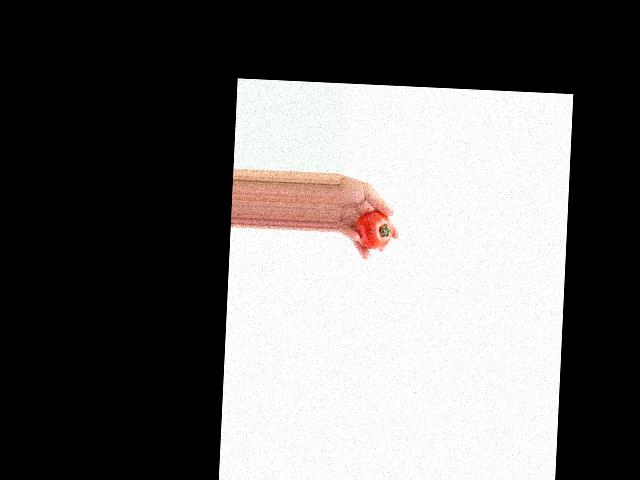tomato: (354, 210, 393, 250)
